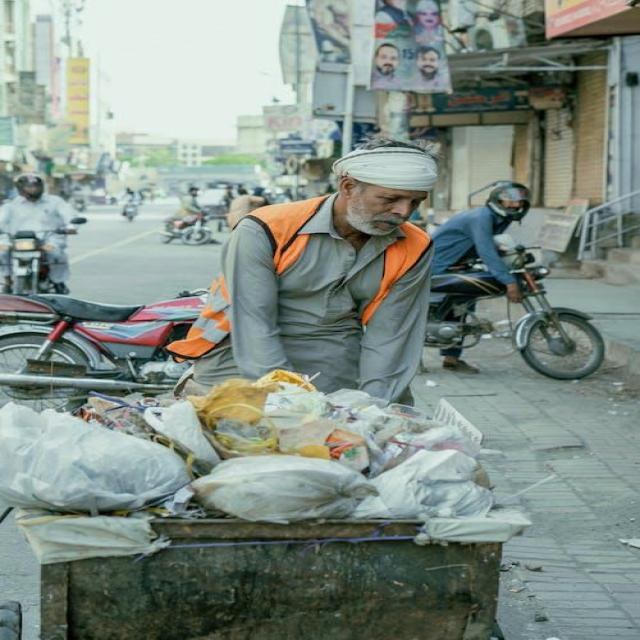trash: (19, 354, 502, 533)
